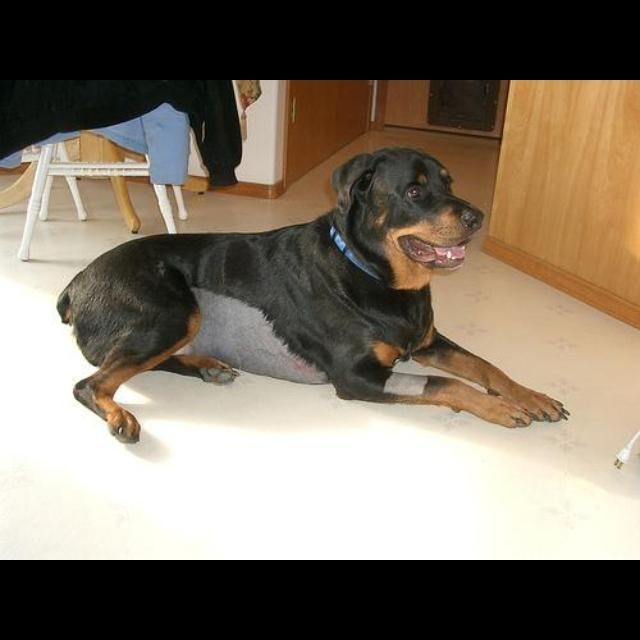rottweiler: (56, 146, 570, 445)
